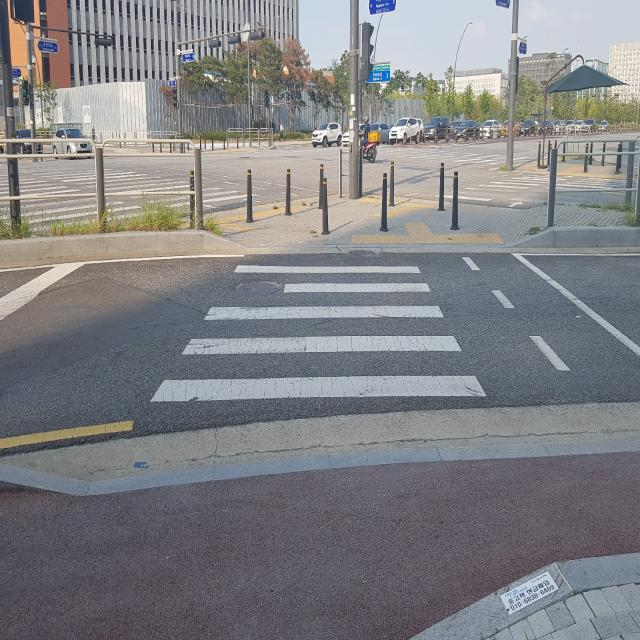초록불: (23, 82, 28, 105)
횡단보도: (149, 264, 487, 404), (0, 170, 228, 212), (472, 179, 560, 197)
